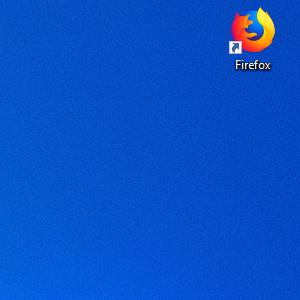firefox: (229, 6, 275, 54)
